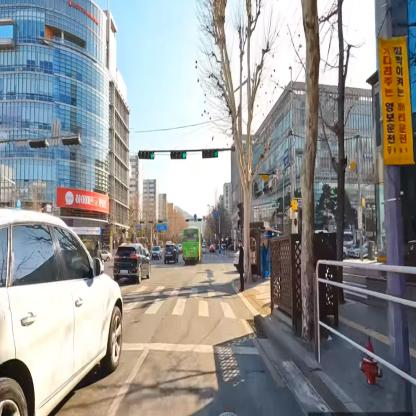Green: (171, 148, 188, 160), (139, 148, 155, 160), (201, 149, 219, 159)
